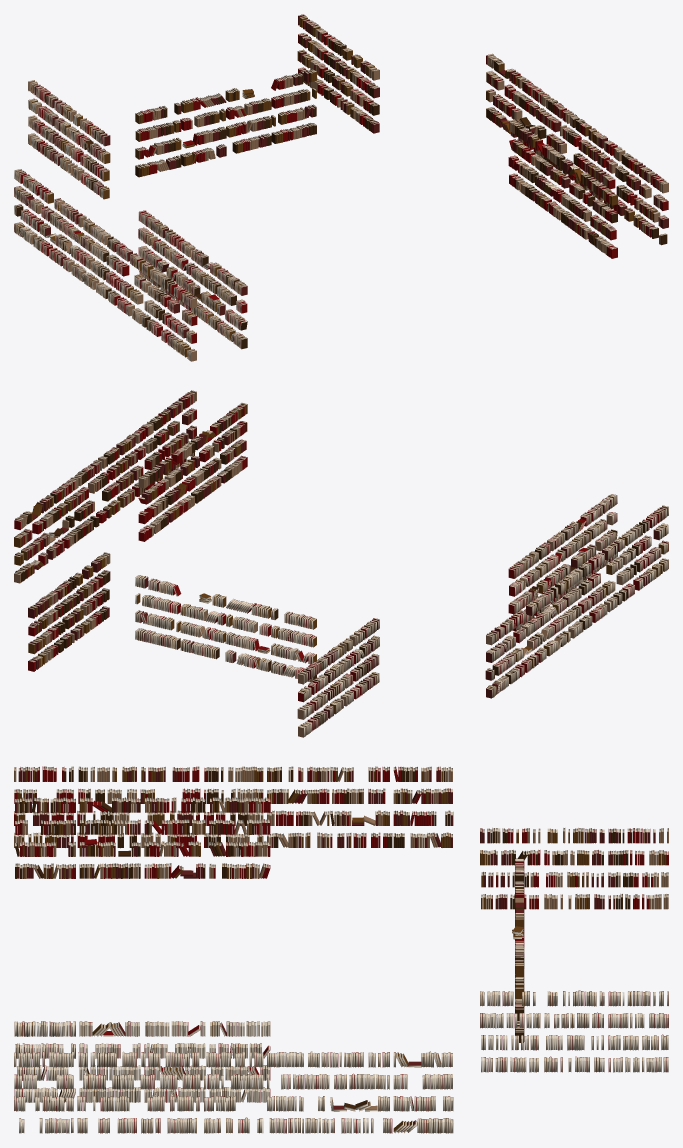
Rendered from books1.glb.
The picture shows the model from 3 angles, top to bottom: view 1: azimuth 30°, elevation 25°; view 2: azimuth 150°, elevation 25°; view 3: azimuth 270°, elevation 25°; orthographic projection. The views are drawn at different scales.
Visible parts, largest first — view 1: book_wall_nice, books_nice_front, books_side, books_nice_front2; view 2: book_wall_nice, books_nice_front, books_side, books_nice_front2; view 3: book_wall_nice, books_nice_front, books_side, books_nice_front2.
Boxes of the visible parts, left/top/right/bottom form: book_wall_nice: left=14, top=53, right=668, bottom=361; books_nice_front: left=138, top=119, right=617, bottom=349; books_side: left=28, top=14, right=379, bottom=199; books_nice_front2: left=135, top=69, right=316, bottom=177; book_wall_nice: left=14, top=390, right=668, bottom=698; books_nice_front: left=138, top=403, right=617, bottom=630; books_side: left=28, top=552, right=379, bottom=737; books_nice_front2: left=135, top=575, right=316, bottom=682; book_wall_nice: left=14, top=766, right=453, bottom=1133; books_nice_front: left=14, top=797, right=270, bottom=1102; books_side: left=480, top=828, right=668, bottom=1072; books_nice_front2: left=512, top=858, right=524, bottom=1042.
Bounding box in the file's own units: 25.94 × 3.27 × 24.81.
Materials: 1 (1 with a texture image).
